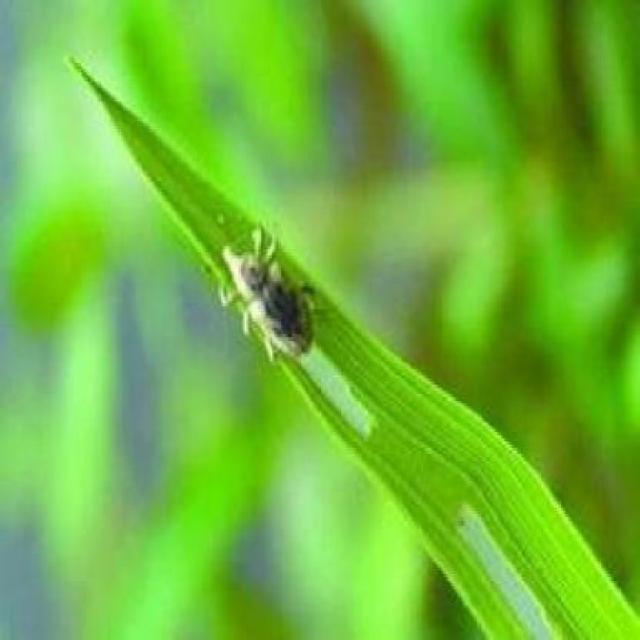rice-bug: (218, 220, 318, 369)
